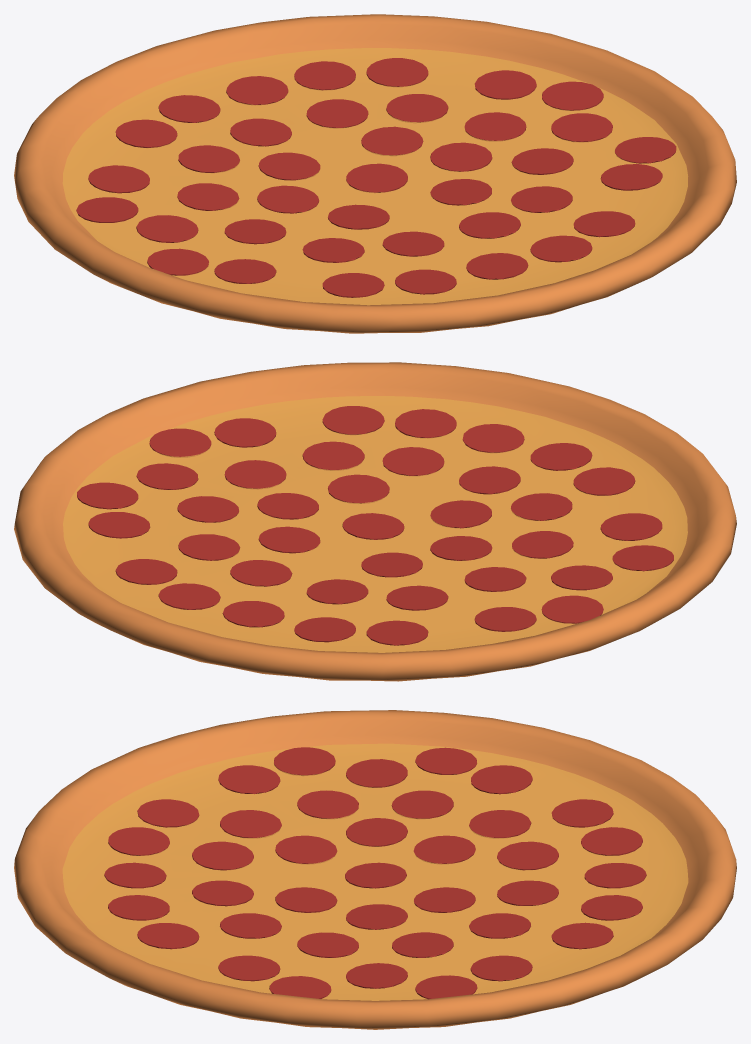
The model's file is pizza.gltf.
3 views of the same model, one above another, from view 1: azimuth 30°, elevation 25°; view 2: azimuth 150°, elevation 25°; view 3: azimuth 270°, elevation 25° (orthographic).
Parts seen in each view (by area): view 1: Cylinder, Circle.001, Circle; view 2: Cylinder, Circle.001, Circle; view 3: Cylinder, Circle.001, Circle.
Part boxes in pixels (x1,y1,x2,y2): Cylinder: (14, 14, 736, 333); Circle.001: (62, 48, 688, 305); Circle: (76, 58, 676, 297); Cylinder: (14, 362, 736, 681); Circle.001: (63, 396, 687, 652); Circle: (77, 406, 673, 645); Cylinder: (14, 710, 736, 1029); Circle.001: (62, 743, 688, 1000); Circle: (104, 747, 646, 999).
Bounding box in the file's own units: 1.44 × 0.0648 × 1.44.
